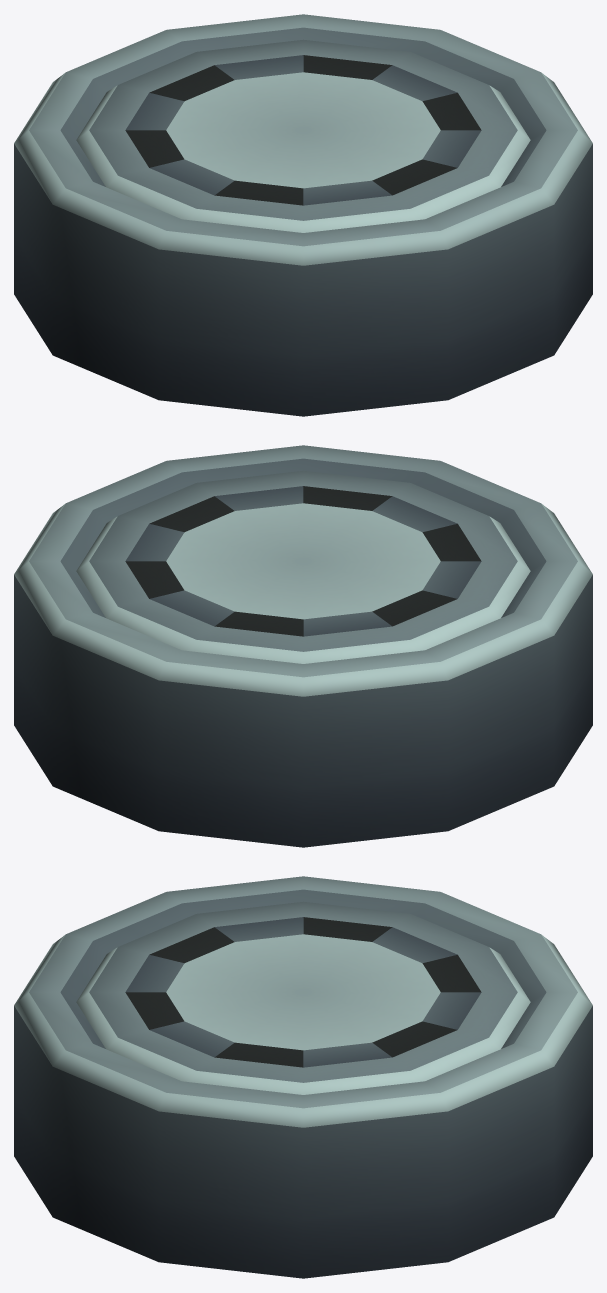
File: manhole.fbx
The picture shows the model from 3 angles, top to bottom: view 1: azimuth 30°, elevation 25°; view 2: azimuth 150°, elevation 25°; view 3: azimuth 270°, elevation 25°; orthographic projection.
Visible parts, largest first — view 1: manhole, manhole_lid; view 2: manhole, manhole_lid; view 3: manhole, manhole_lid.
Boxes of the visible parts, x1,y1,x2,y2 form: manhole: (14, 14, 592, 416); manhole_lid: (76, 39, 530, 232); manhole: (14, 445, 592, 847); manhole_lid: (76, 470, 530, 663); manhole: (14, 876, 592, 1278); manhole_lid: (76, 901, 530, 1094).
Bounding box in the file's own units: 200 × 62.5 × 200.
